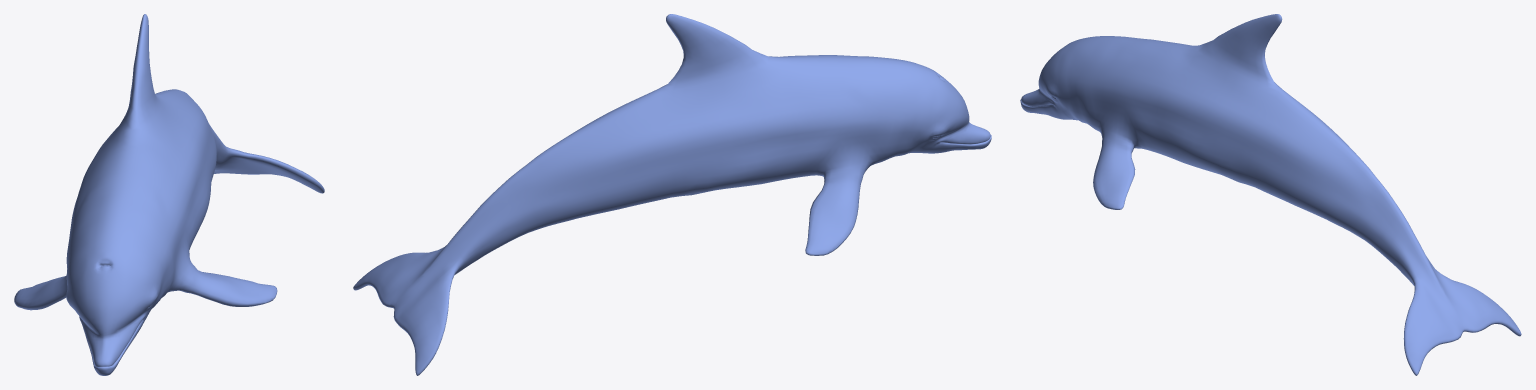
The model's file is Dolphin.fbx.
3 views of the same model, side by side, from view 1: azimuth 30°, elevation 25°; view 2: azimuth 150°, elevation 25°; view 3: azimuth 270°, elevation 25° (orthographic). The views are drawn at different scales.
Parts seen in each view (by area): view 1: dolphin; view 2: dolphin; view 3: dolphin.
Boxes of the visible parts, left/top/right/bottom form: dolphin: left=14, top=14, right=324, bottom=375; dolphin: left=353, top=14, right=991, bottom=375; dolphin: left=1020, top=14, right=1521, bottom=375.
Size of the model in its own units: 7896 by 5237 by 8863.
